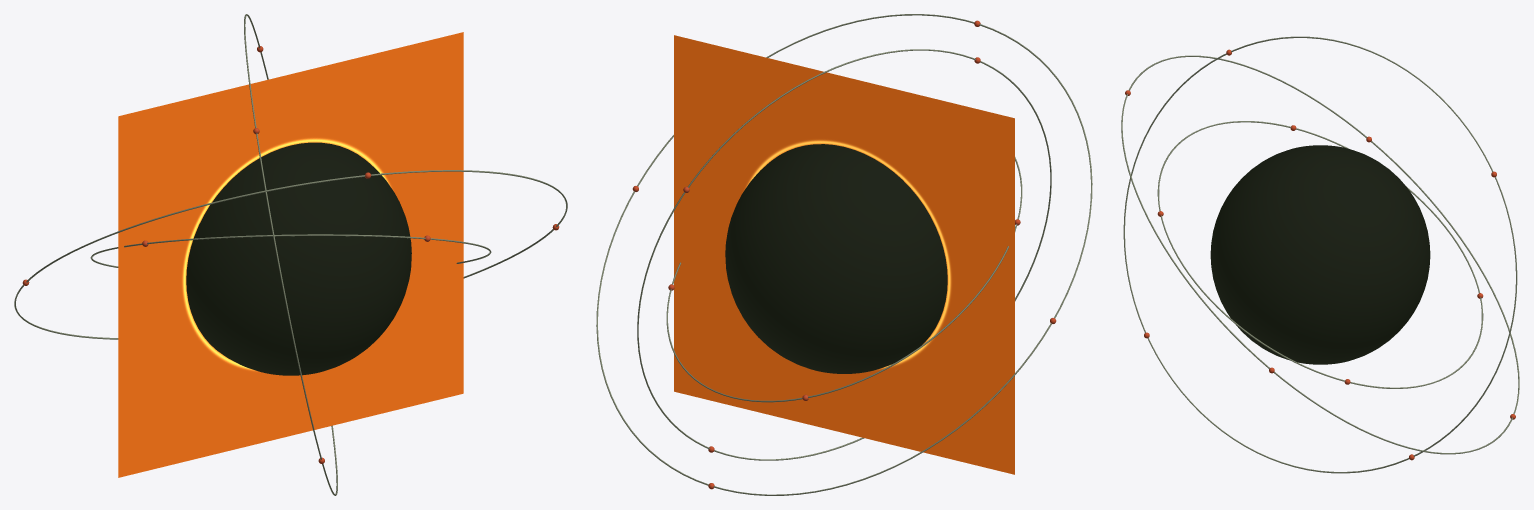
File: gravity.glb
3 renders of one model, left to right at view 1: azimuth 30°, elevation 25°; view 2: azimuth 150°, elevation 25°; view 3: azimuth 270°, elevation 25°, orthographic. The views are drawn at different scales.
Visible parts, largest first — view 1: Horizon_light, Black_centre, Path_diagonal, Path_vertical, Path_horizontal; view 2: Horizon_light, Black_centre, Path_diagonal, Path_vertical, Path_horizontal; view 3: Black_centre, Path_vertical, Path_diagonal, Path_horizontal.
Boxes of the visible parts, bbox=[...] form: Horizon_light: bbox=[118, 32, 463, 477]; Black_centre: bbox=[186, 142, 411, 375]; Path_diagonal: bbox=[14, 170, 567, 339]; Path_vertical: bbox=[244, 14, 337, 495]; Path_horizontal: bbox=[90, 234, 491, 267]; Horizon_light: bbox=[674, 35, 1014, 474]; Black_centre: bbox=[725, 144, 947, 373]; Path_diagonal: bbox=[596, 14, 1092, 495]; Path_vertical: bbox=[637, 49, 1051, 460]; Path_horizontal: bbox=[666, 157, 1022, 402]; Black_centre: bbox=[1210, 145, 1430, 364]; Path_vertical: bbox=[1123, 36, 1517, 473]; Path_diagonal: bbox=[1121, 55, 1519, 454]; Path_horizontal: bbox=[1157, 121, 1483, 388].
Bounding box in the file's own units: 4.6 × 3.98 × 3.63.
4 materials, 1 textured.
